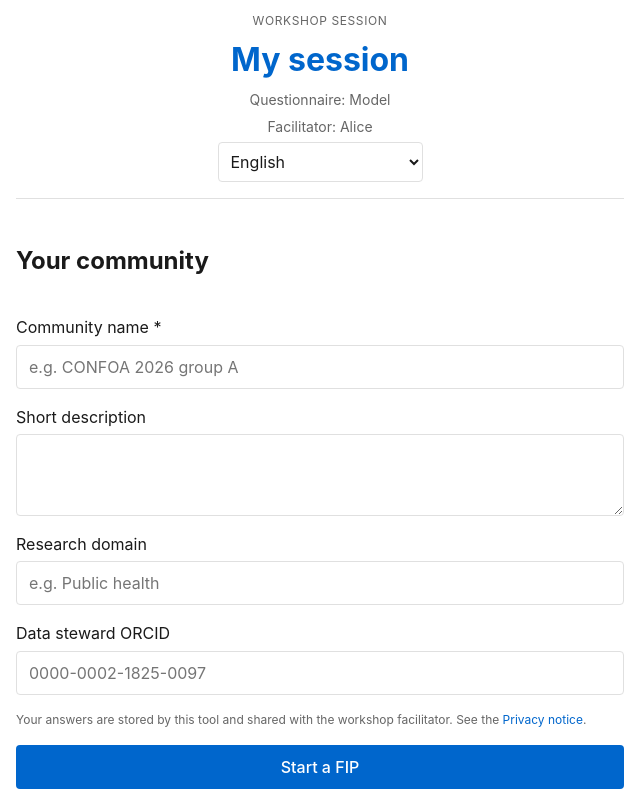
Test: JoinSession.vue › maps a 404 session_not_found from POST /fips to the invalid-code message, not the generic server error
The image size is (641, 806).
Type "My community" into the field labelled "Community name *". click: [320, 367]
box: [16,345,624,389]
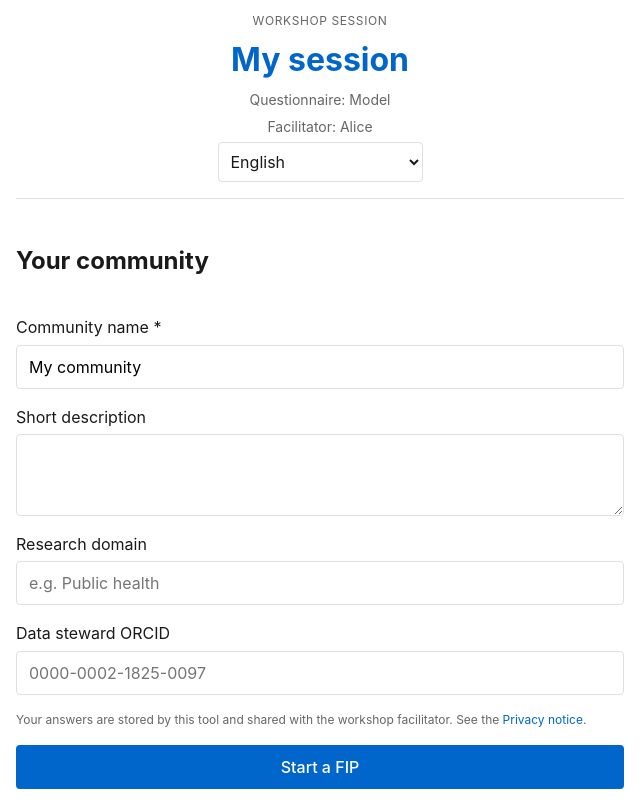
Submit the form
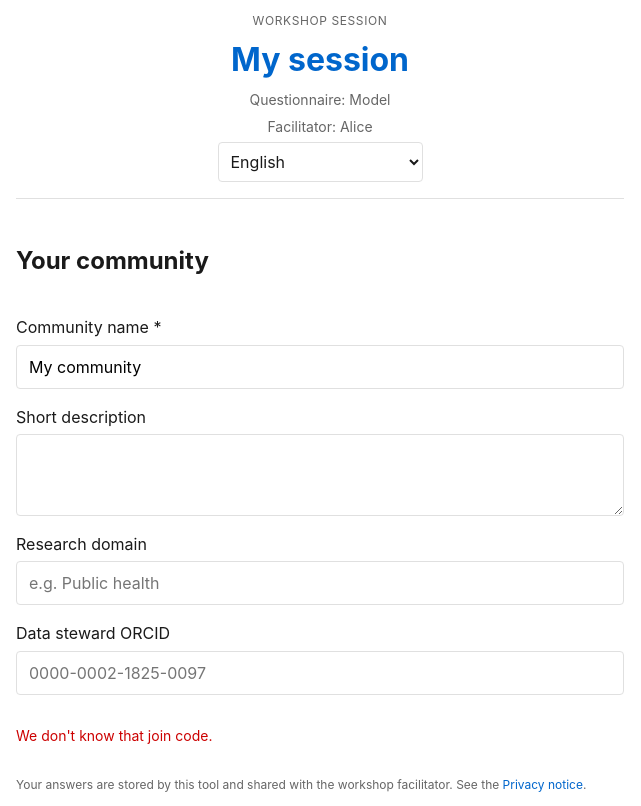
Check: the text "We don't know that join code." is shown, box [16,727,212,744]
